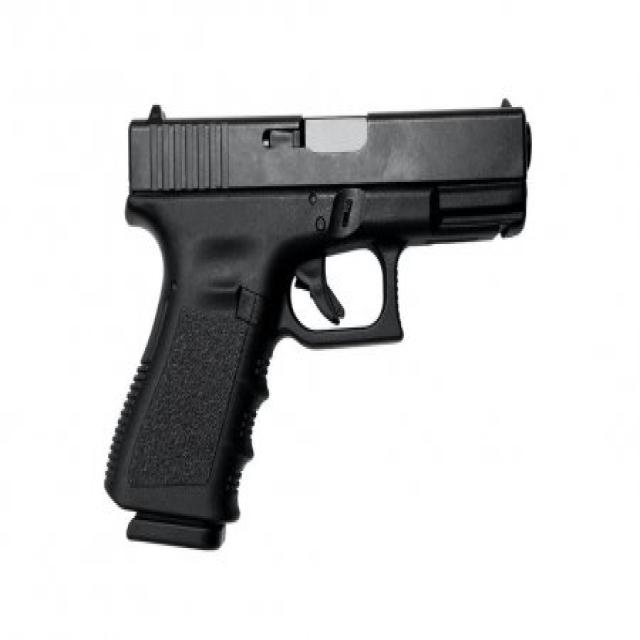pistol: (103, 93, 538, 556)
